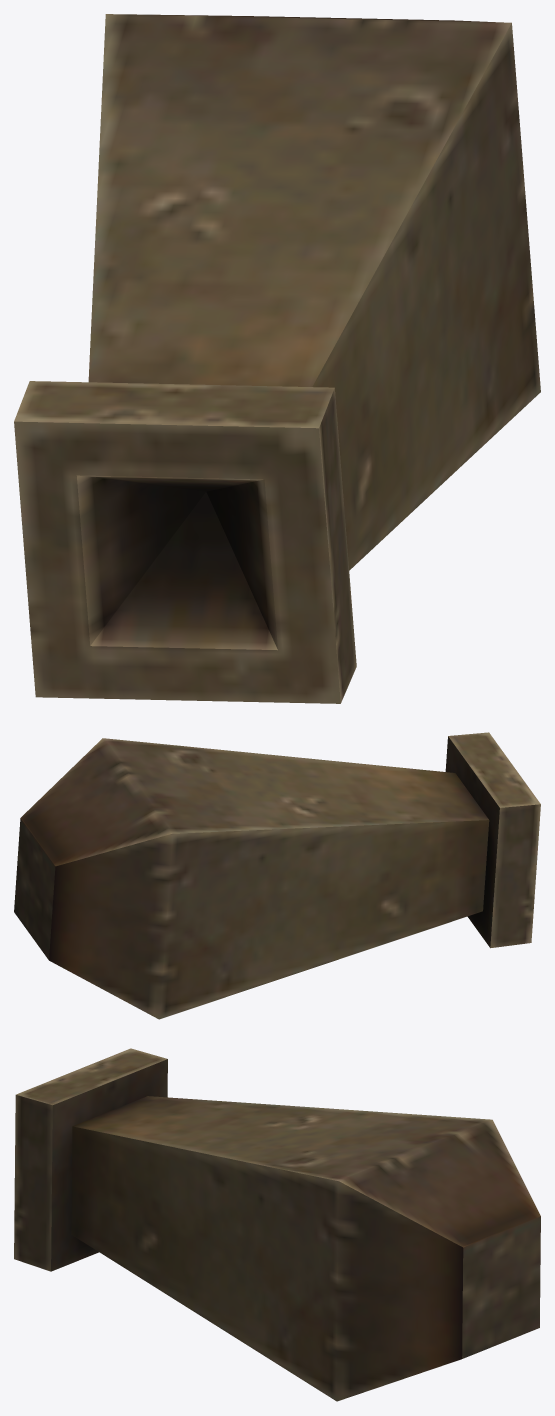
Rendered from shakian_object_etc_b.FBX.
3 renders of one model, top to bottom at view 1: azimuth 30°, elevation 25°; view 2: azimuth 150°, elevation 25°; view 3: azimuth 270°, elevation 25°, orthographic. The views are drawn at different scales.
Parts seen in each view (by area): view 1: shakian_object_etc_b; view 2: shakian_object_etc_b; view 3: shakian_object_etc_b.
Boxes of the visible parts, x1,y1,x2,y2 form: shakian_object_etc_b: (14, 14, 540, 703); shakian_object_etc_b: (14, 732, 540, 1019); shakian_object_etc_b: (14, 1048, 540, 1401).
Bounding box in the file's own units: 1.61 × 0.8184 × 1.73.
